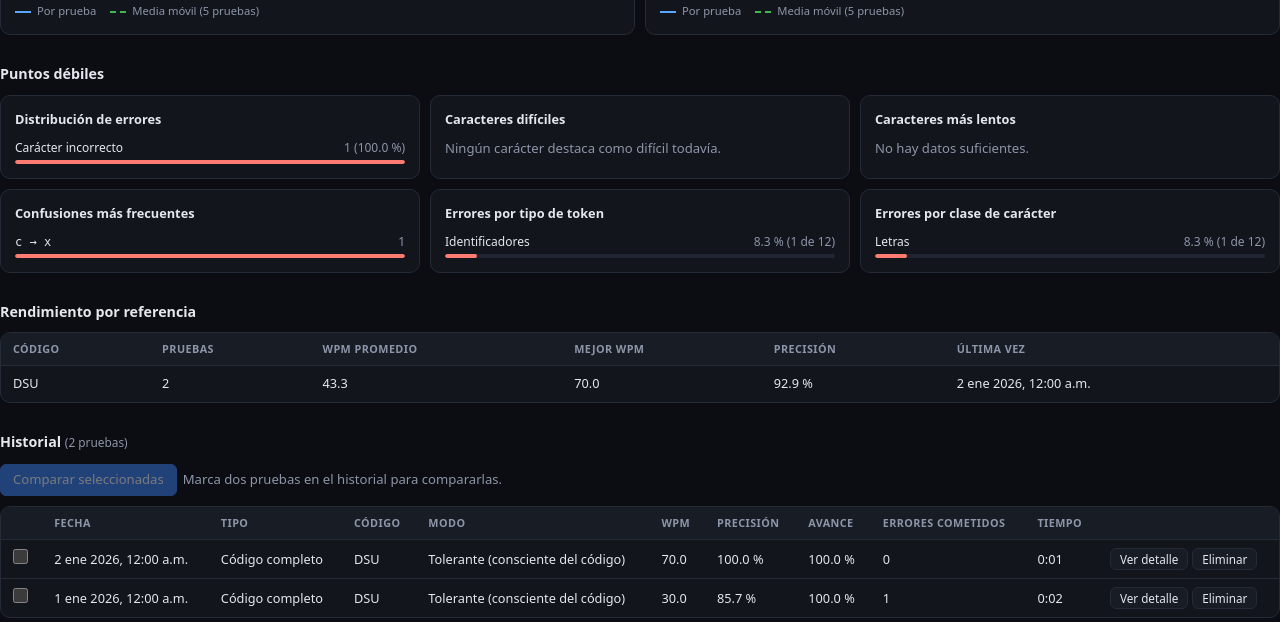
Test: página de estadísticas › compara dos pruebas seleccionadas
(page scrolled)
Expected: the button "Comparar seleccionadas" is disabled, [0,464,177,496]
Click the checkbox named "Seleccionar para comparar" in the row of "0:01": (20, 556) [13,549,28,564]
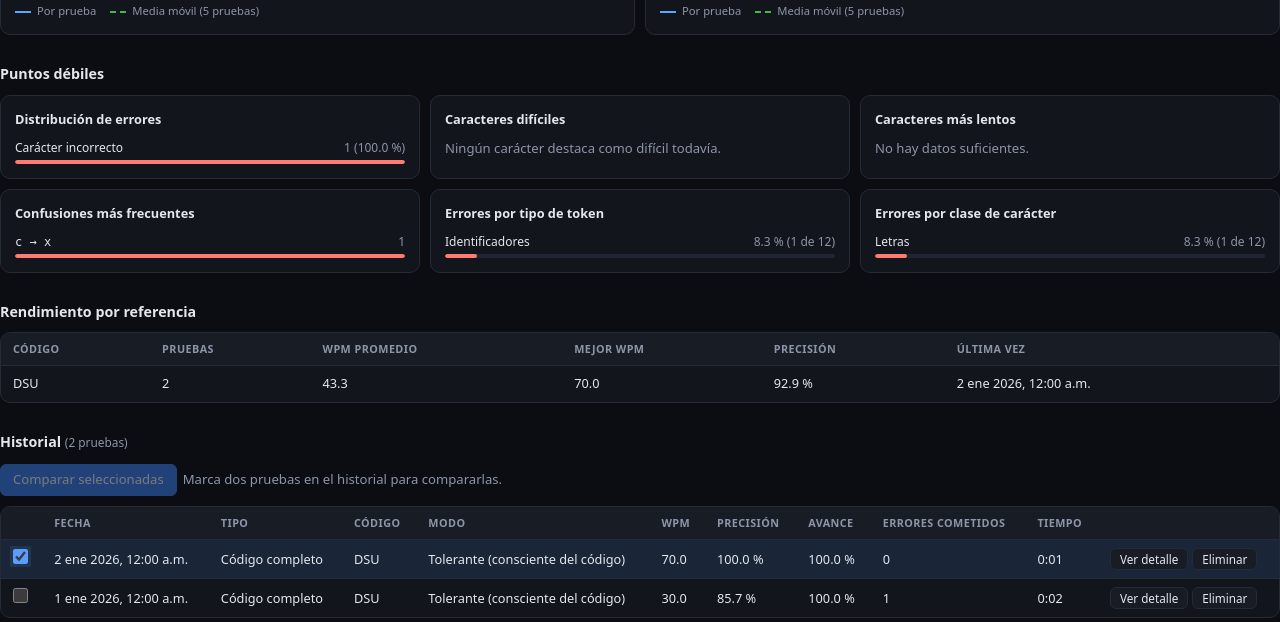
Click the checkbox named "Seleccionar para comparar" next to "1 ene 2026, 12:00 a.m.": (20, 596) [13,588,28,603]
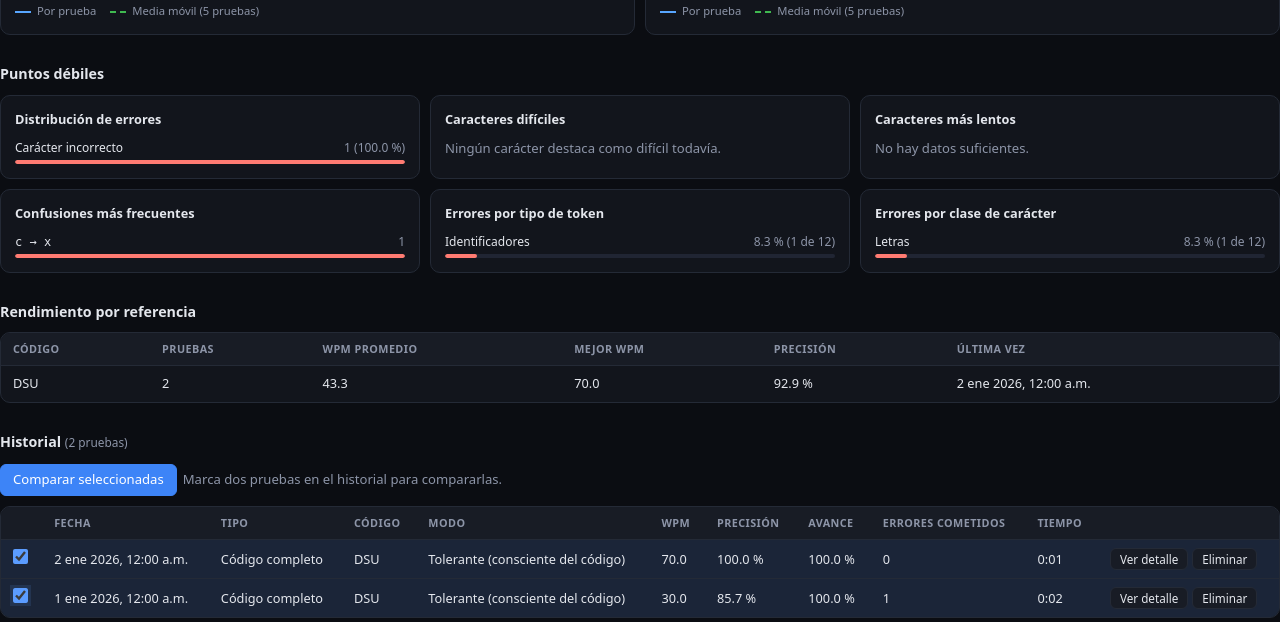
Click the button "Comparar seleccionadas": (88, 480) [0,464,177,496]
(page scrolled)
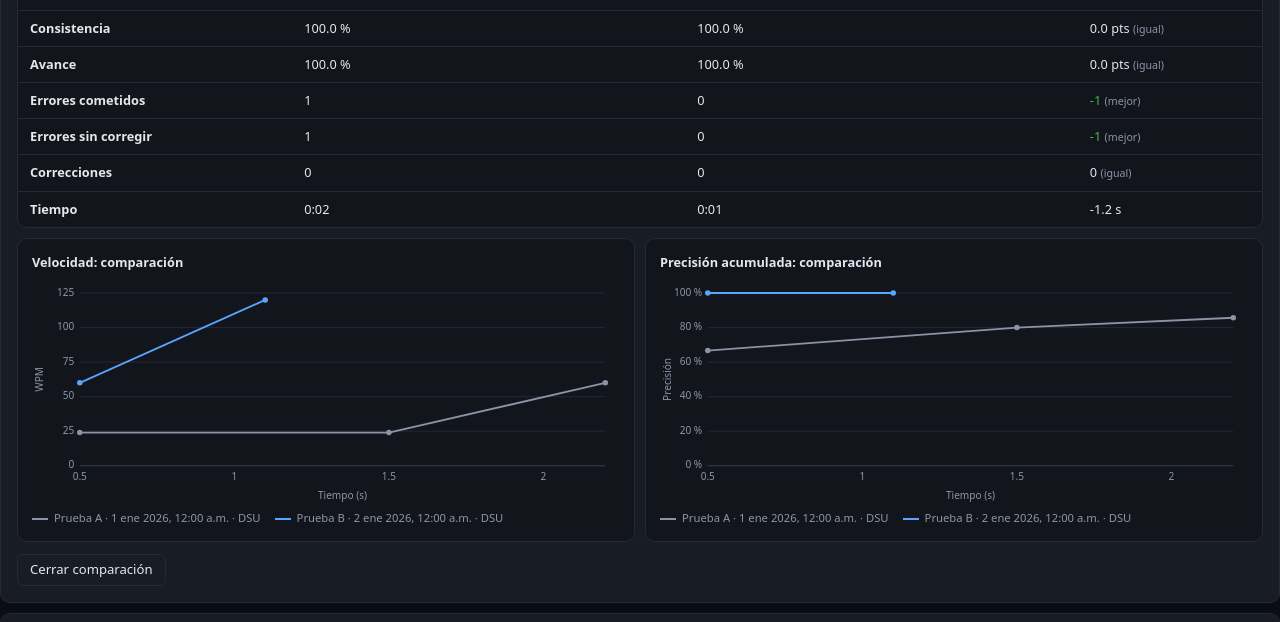
Now the text "Errores cometidos" shows "1", box [304,91,312,109]
Now the text "Errores cometidos" shows "-1", box [1090,91,1101,109]
Now the text "Errores cometidos" shows "mejor", box [1108,94,1137,108]
